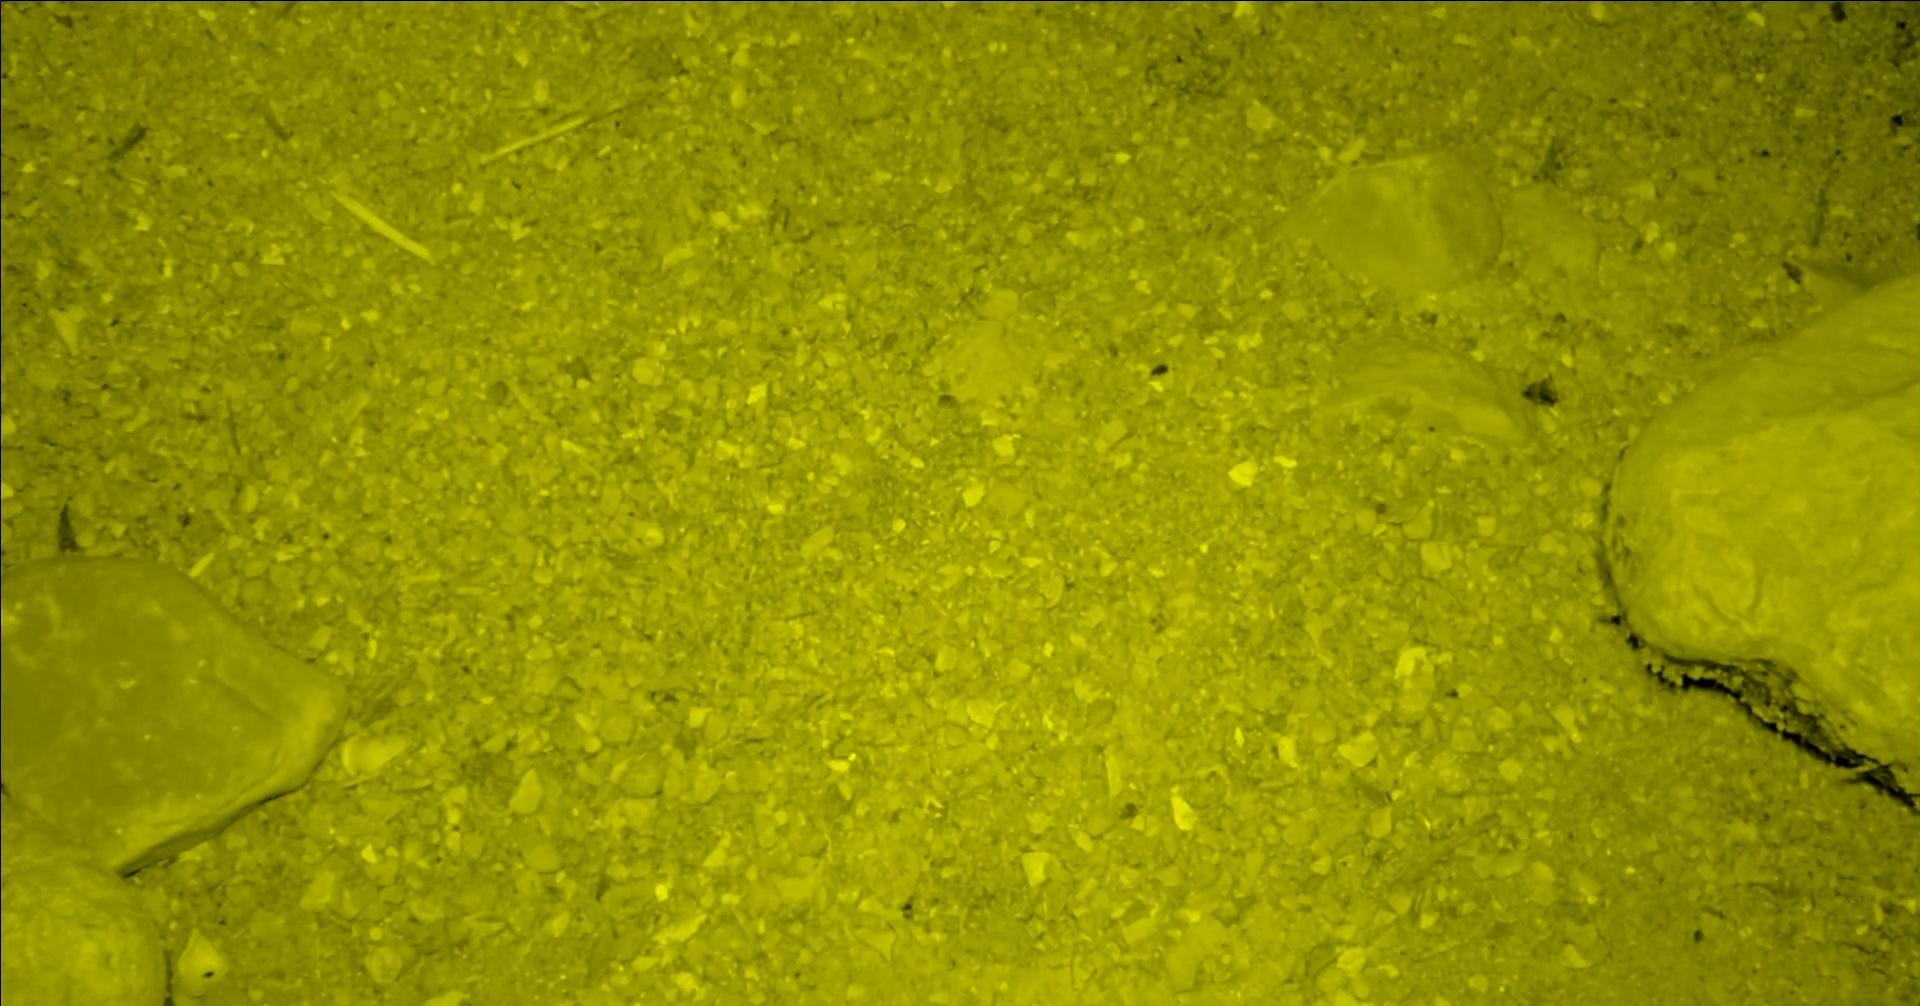ant: (0, 0, 43, 8), (1782, 0, 1919, 1)
